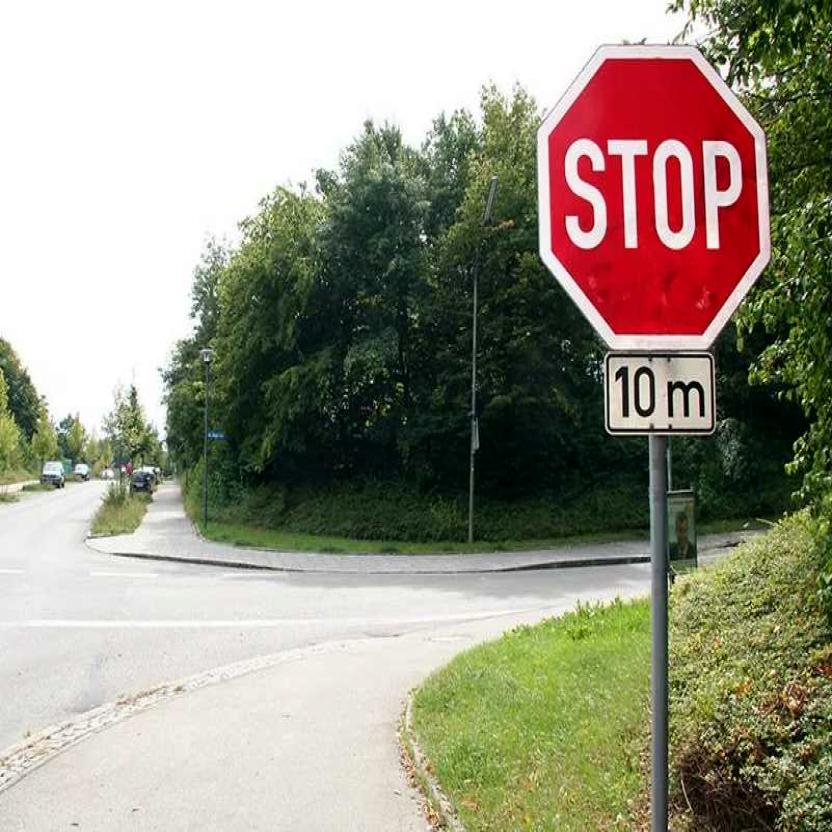Pole: (649, 441, 670, 820)
Sign: (538, 45, 771, 348)
